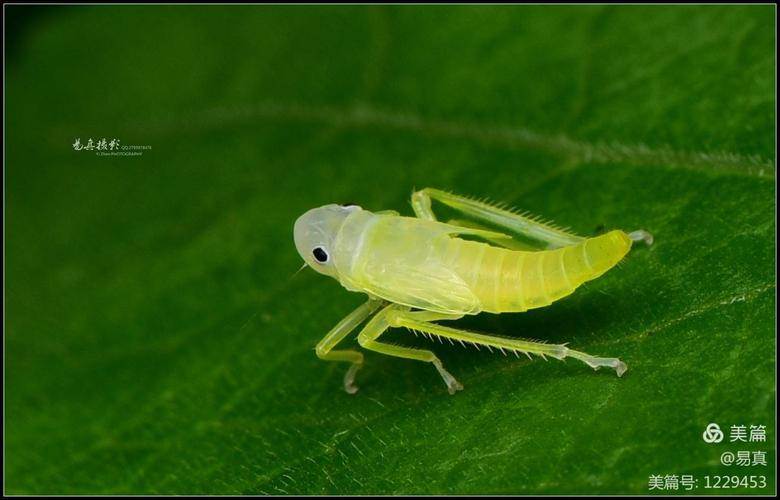Cicadellidae: (293, 186, 643, 400)
